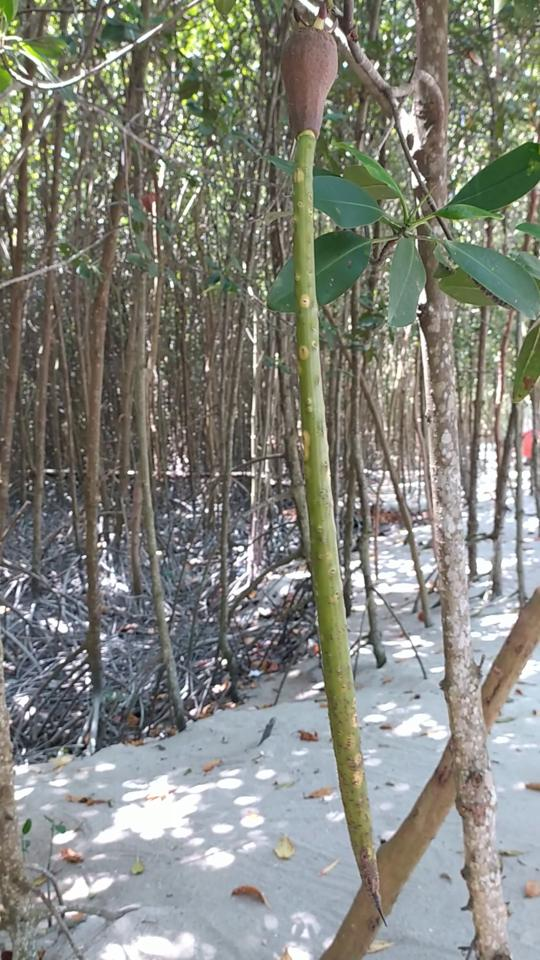setengah matang: (261, 1, 400, 933)
